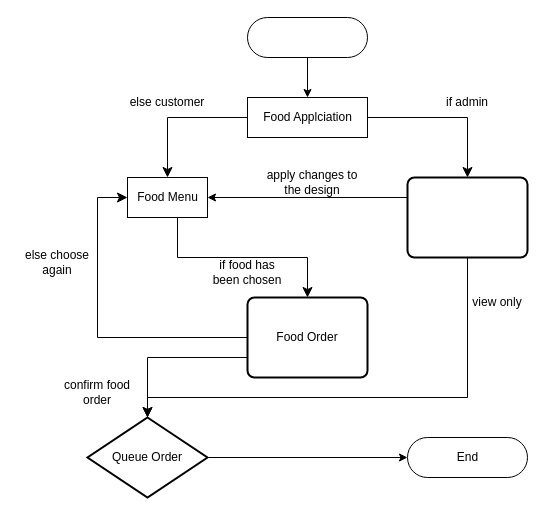
This 545x516 diagram has some shape labels left out. Here are the shapes that lost their labels. From the top down, the centre of each, then its label:
(x=307, y=37): Start
(x=467, y=217): Food Menu Design
